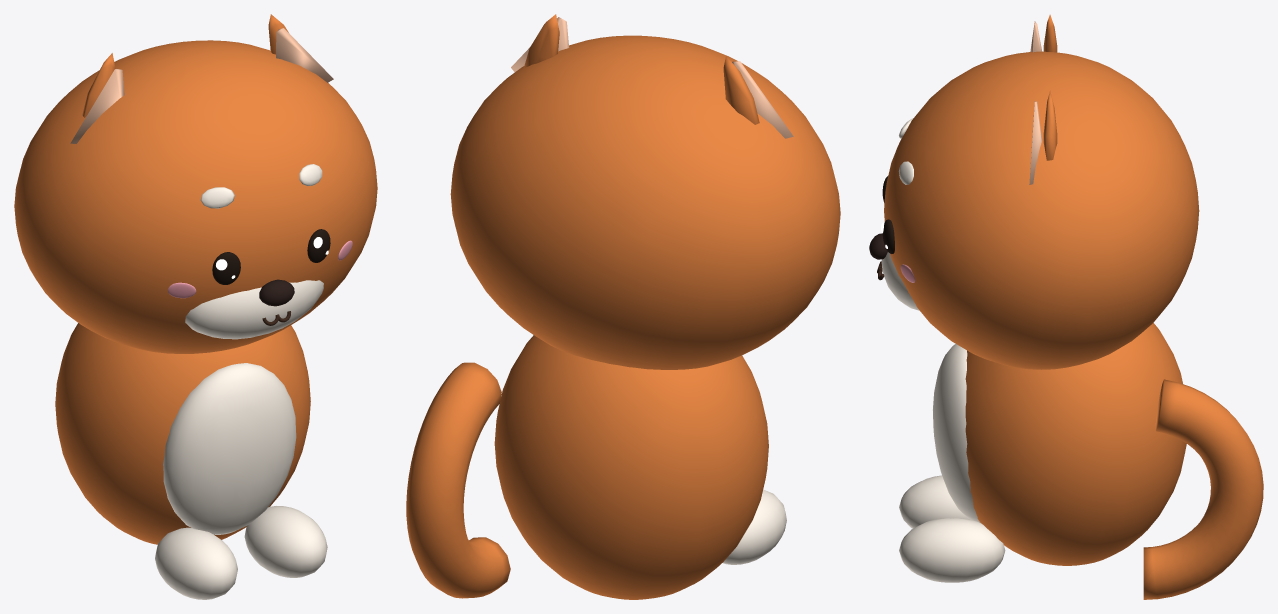
The model's file is p-shiba.glb.
3 views of the same model, side by side, from view 1: azimuth 30°, elevation 25°; view 2: azimuth 150°, elevation 25°; view 3: azimuth 270°, elevation 25° (orthographic). The views are drawn at different scales.
Visible parts, largest first — view 1: p-shiba, ear-R, ear-L, blink-R, blink-L; view 2: p-shiba, wag, ear-R, ear-L; view 3: p-shiba, wag, ear-L, ear-R.
Part boxes in pixels (box(x1,y1,x2,y2)): p-shiba: box(14, 40, 377, 599); ear-R: box(70, 53, 124, 143); ear-L: box(268, 14, 333, 82); blink-R: box(212, 252, 240, 284); blink-L: box(307, 229, 330, 262); p-shiba: box(450, 35, 840, 599); wag: box(406, 362, 510, 598); ear-R: box(723, 56, 793, 138); ear-L: box(511, 14, 569, 71); p-shiba: box(869, 51, 1199, 582); wag: box(1143, 379, 1263, 599); ear-L: box(1029, 90, 1057, 184); ear-R: box(1030, 14, 1057, 52).
Size of the model in its own units: 0.1999 by 0.3 by 0.212.
